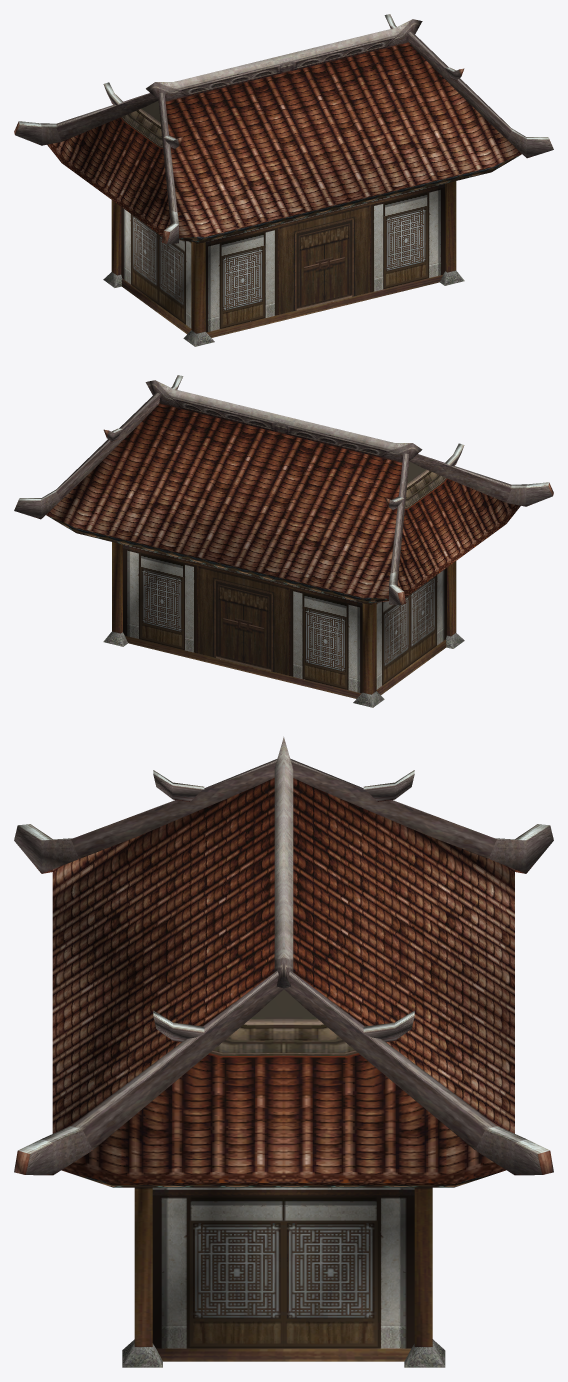
The model's file is a1-016-house9_lod_01.fbx.
3 views of the same model, one above another, from view 1: azimuth 30°, elevation 25°; view 2: azimuth 150°, elevation 25°; view 3: azimuth 270°, elevation 25° (orthographic). The views are drawn at different scales.
Parts seen in each view (by area): view 1: a1-016-house9; view 2: a1-016-house9; view 3: a1-016-house9.
Part boxes in pixels (x1=…): a1-016-house9: x1=14, y1=14, x2=553, y2=346; a1-016-house9: x1=14, y1=375, x2=553, y2=707; a1-016-house9: x1=14, y1=737, x2=553, y2=1367.
Bounding box in the file's own units: 12.38 × 6.95 × 8.41.
